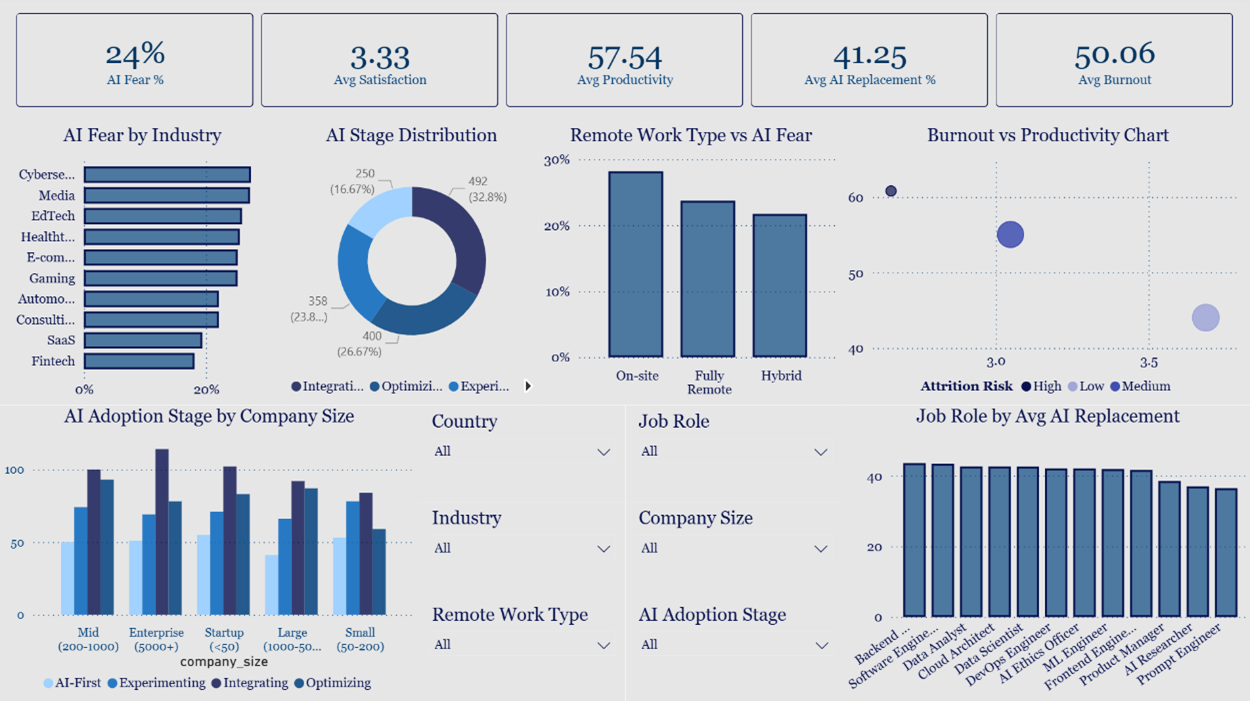

Layout of this report page (visuals, bound fields, positions):
{"tool":"powerbi","page":{"name":"AI Impact & Employee Perception","canvas":[1280,720],"ordinal":1},"visuals":[{"type":"cardVisual","fields":{"Data":["data.AI Fear %","data.Avg Satisfaction","data.Avg Productivity","data.Avg AI Replacement %","data.Avg Burnout"]},"box":[0,0,1280.4,130.9],"z":0},{"type":"donutChart","title":"AI Stage Distribution","fields":{"Category":["data.ai_adoption_stage"],"Y":["CountNonNull(data.ai_adoption_stage)"]},"box":[292,130.9,258.4,286.2],"z":1000},{"type":"slicer","fields":{"Values":["data.country"]},"box":[428.7,417.1,210.9,98.5],"z":2000},{"type":"slicer","fields":{"Values":["data.job_role"]},"box":[639.6,417.1,221.3,98.5],"z":3000},{"type":"slicer","fields":{"Values":["data.industry"]},"box":[428.7,515.6,210.9,98.5],"z":4000},{"type":"slicer","fields":{"Values":["data.company_size"]},"box":[639.6,515.6,221.3,98.5],"z":5000},{"type":"slicer","fields":{"Values":["data.remote_work_type"]},"box":[428.7,614.1,210.9,105.4],"z":6000},{"type":"slicer","fields":{"Values":["data.ai_adoption_stage"]},"box":[639.6,614.1,222.5,105.4],"z":7000},{"type":"clusteredColumnChart","title":"Remote Work Type vs AI Fear","fields":{"Category":["data.remote_work_type"],"Y":["data.AI Fear %"]},"box":[550.4,130.9,311.7,286.2],"z":8000},{"type":"clusteredColumnChart","title":"AI Adoption Stage by Company Size","fields":{"Y":["CountNonNull(data.company_size)"],"Category":["data.company_size"],"Series":["data.ai_adoption_stage"]},"box":[0,417.1,428.7,302.4],"z":9000},{"type":"clusteredBarChart","title":"AI Fear by Industry","fields":{"Category":["data.industry"],"Y":["data.AI Fear %"]},"box":[0,130.9,292,286.2],"z":10000},{"type":"scatterChart","title":"Burnout vs Productivity Chart","fields":{"Series":["data.attrition_risk"],"X":["data.Avg Satisfaction"],"Y":["data.Avg Burnout"],"Size":["CountNonNull(data.attrition_risk)"]},"box":[860.9,130.9,419.5,286.2],"z":11000},{"type":"clusteredColumnChart","title":"Job Role by Avg AI Replacement","fields":{"Category":["data.job_role"],"Y":["data.Avg AI Replacement %"]},"box":[860.9,417.1,419.5,302.4],"z":12000}]}

Visuals, with their boxes in screenshot pixels (x1, y1, x2, y2), scaled from the page's 1280x720 canvas onto the 1250x701 screenshot:
cardVisual - data.AI Fear % x data.Avg Satisfaction: [x1=0, y1=0, x2=1249, y2=127]
"AI Stage Distribution" donutChart: [x1=285, y1=127, x2=538, y2=406]
slicer - data.country: [x1=419, y1=406, x2=625, y2=502]
slicer - data.job_role: [x1=625, y1=406, x2=841, y2=502]
slicer - data.industry: [x1=419, y1=502, x2=625, y2=598]
slicer - data.company_size: [x1=625, y1=502, x2=841, y2=598]
slicer - data.remote_work_type: [x1=419, y1=598, x2=625, y2=700]
slicer - data.ai_adoption_stage: [x1=625, y1=598, x2=842, y2=700]
"Remote Work Type vs AI Fear" clusteredColumnChart: [x1=538, y1=127, x2=842, y2=406]
"AI Adoption Stage by Company Size" clusteredColumnChart: [x1=0, y1=406, x2=419, y2=700]
"AI Fear by Industry" clusteredBarChart: [x1=0, y1=127, x2=285, y2=406]
"Burnout vs Productivity Chart" scatterChart: [x1=841, y1=127, x2=1249, y2=406]
"Job Role by Avg AI Replacement" clusteredColumnChart: [x1=841, y1=406, x2=1249, y2=700]
